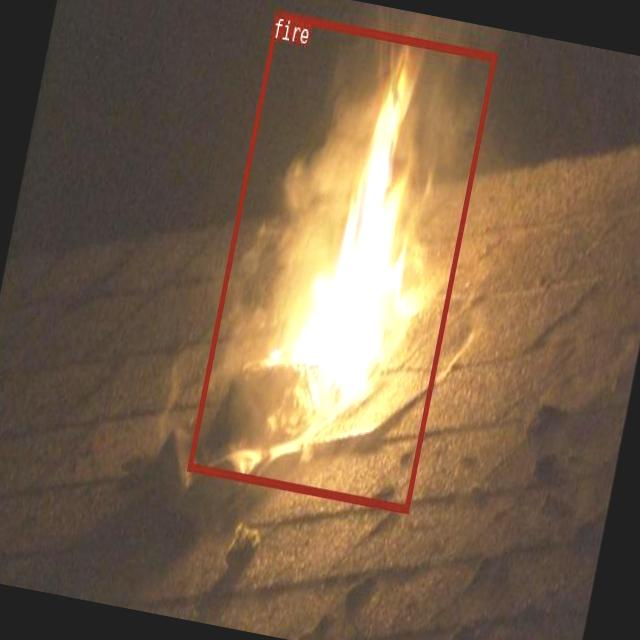fire: (186, 9, 497, 512)
